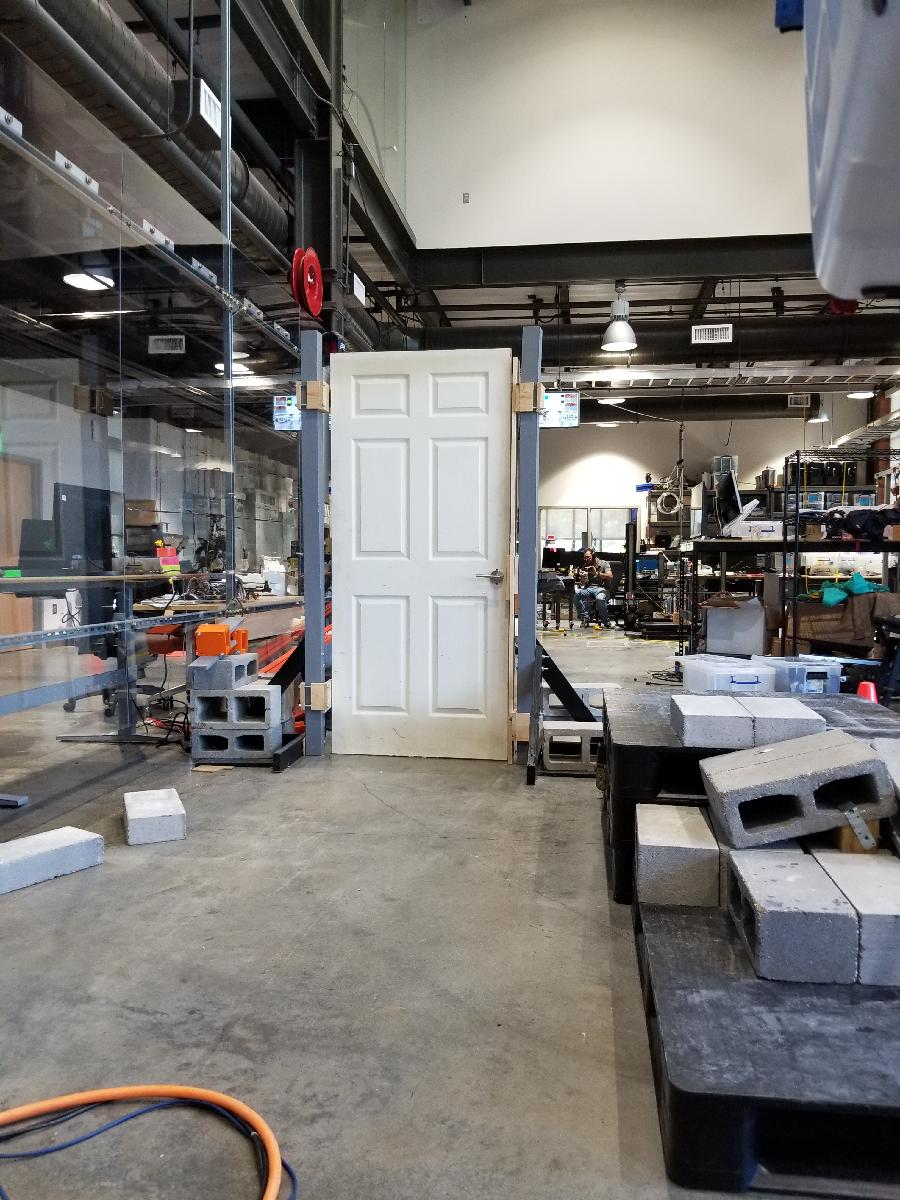door: (324, 347, 524, 770)
doorHandle: (480, 567, 507, 590)
